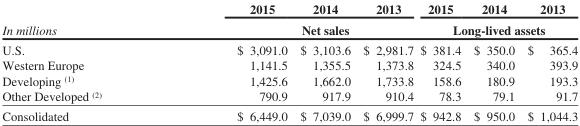table: (1, 0, 577, 122)
table column: (1, 0, 168, 122), (168, 0, 293, 122), (293, 0, 356, 122), (356, 0, 416, 122), (520, 0, 577, 122), (466, 0, 520, 122), (416, 0, 466, 122)
table column header: (1, 0, 577, 18)
table row: (1, 18, 577, 39), (1, 0, 577, 18), (1, 39, 577, 57), (1, 87, 577, 105), (1, 105, 577, 122), (1, 57, 577, 72), (1, 72, 577, 87)
table spanning cell: (168, 18, 416, 39), (416, 18, 577, 39)
